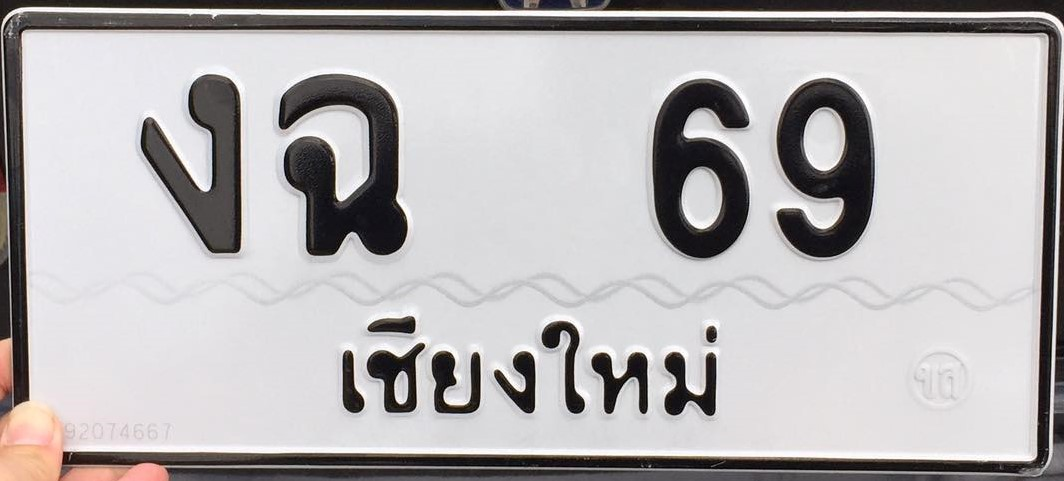txt05: (136, 68, 252, 260)
txt07: (269, 67, 419, 262)
